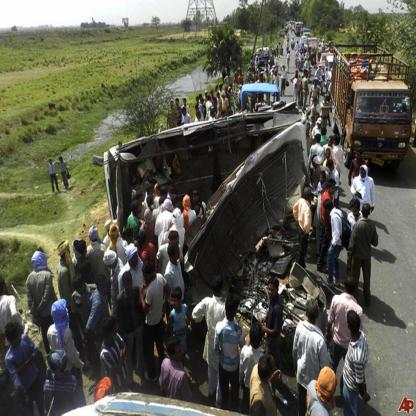face: (13, 335, 22, 348), (176, 346, 183, 361), (78, 283, 85, 297), (125, 283, 133, 295), (269, 286, 276, 299), (101, 283, 108, 296), (129, 256, 137, 267), (172, 299, 180, 310), (172, 237, 180, 248), (175, 248, 181, 261), (111, 325, 117, 337), (144, 273, 150, 283), (125, 235, 131, 245), (330, 185, 336, 194), (108, 262, 115, 269), (325, 206, 330, 215), (353, 208, 358, 216), (141, 193, 145, 202), (138, 206, 143, 213), (362, 171, 366, 179), (329, 139, 333, 147), (155, 187, 159, 195), (194, 196, 198, 203), (321, 176, 325, 183), (357, 153, 361, 160), (171, 188, 175, 194), (328, 152, 331, 158), (329, 166, 332, 172), (319, 123, 322, 128), (199, 113, 202, 118), (316, 116, 319, 120), (315, 102, 318, 106), (184, 101, 187, 105), (197, 99, 200, 103), (213, 113, 216, 117), (183, 111, 185, 116), (172, 103, 174, 108), (176, 102, 179, 105), (200, 97, 203, 100), (326, 99, 328, 103), (212, 109, 214, 113), (51, 160, 53, 164), (315, 83, 317, 87), (223, 95, 225, 99), (226, 90, 228, 94), (228, 73, 230, 77), (213, 94, 215, 97), (206, 94, 208, 97), (220, 88, 222, 91), (60, 159, 62, 162), (218, 96, 220, 99), (203, 101, 205, 104)
